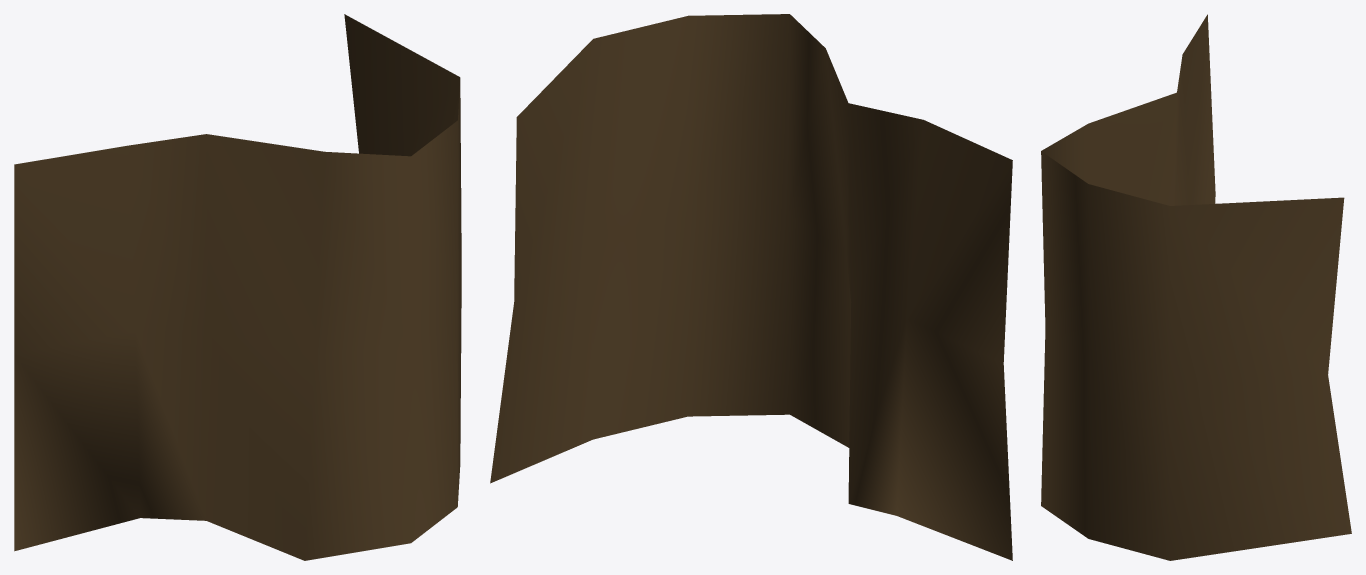
Rendered from SWORDLIGHT20_PS-AREA03_94.fbx.
The picture shows the model from 3 angles, left to right: view 1: azimuth 30°, elevation 25°; view 2: azimuth 150°, elevation 25°; view 3: azimuth 270°, elevation 25°; orthographic projection. The views are drawn at different scales.
Parts seen in each view (by area): view 1: SWORDLIGHT20_PS-AREA03_94; view 2: SWORDLIGHT20_PS-AREA03_94; view 3: SWORDLIGHT20_PS-AREA03_94.
Boxes of the visible parts, x1,y1,x2,y2 form: SWORDLIGHT20_PS-AREA03_94: (14,14,461,560); SWORDLIGHT20_PS-AREA03_94: (490,14,1012,560); SWORDLIGHT20_PS-AREA03_94: (1041,14,1351,560).
Size of the model in its own units: 119080 by 106416 by 81874.
3 materials, 3 textured.
